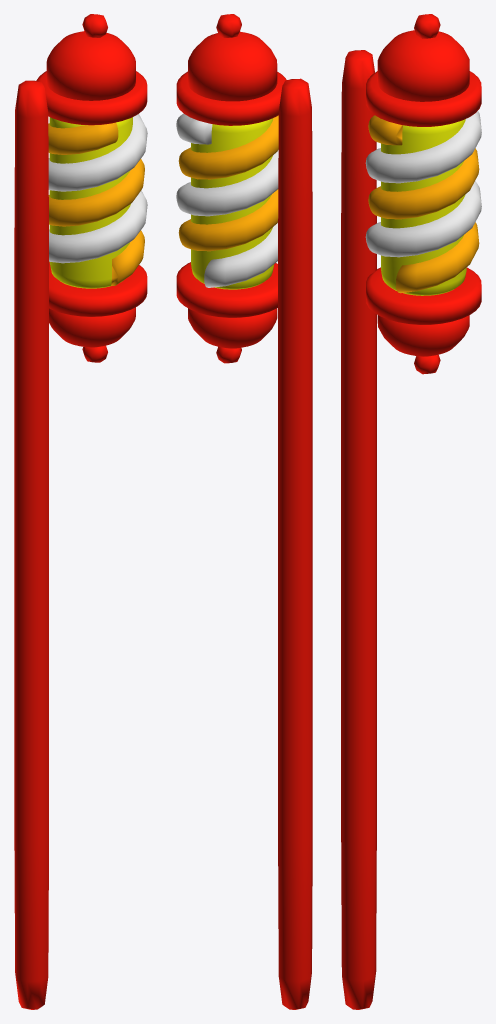
File: Barber_Sign.fbx
3 views of the same model, side by side, from view 1: azimuth 30°, elevation 25°; view 2: azimuth 150°, elevation 25°; view 3: azimuth 330°, elevation 25° (orthographic). The views are drawn at different scales.
Parts seen in each view (by area): view 1: Cylinder.006, Cylinder.005; view 2: Cylinder.006, Cylinder.005; view 3: Cylinder.006, Cylinder.005.
Boxes of the visible parts, box(x1,y1,x2,y2) form: Cylinder.006: box(14, 14, 147, 1009); Cylinder.005: box(48, 114, 147, 288); Cylinder.006: box(176, 14, 312, 1009); Cylinder.005: box(176, 113, 278, 289); Cylinder.006: box(341, 14, 481, 1009); Cylinder.005: box(365, 111, 481, 295).
Bounding box in the file's own units: 156 × 1163 × 122.
